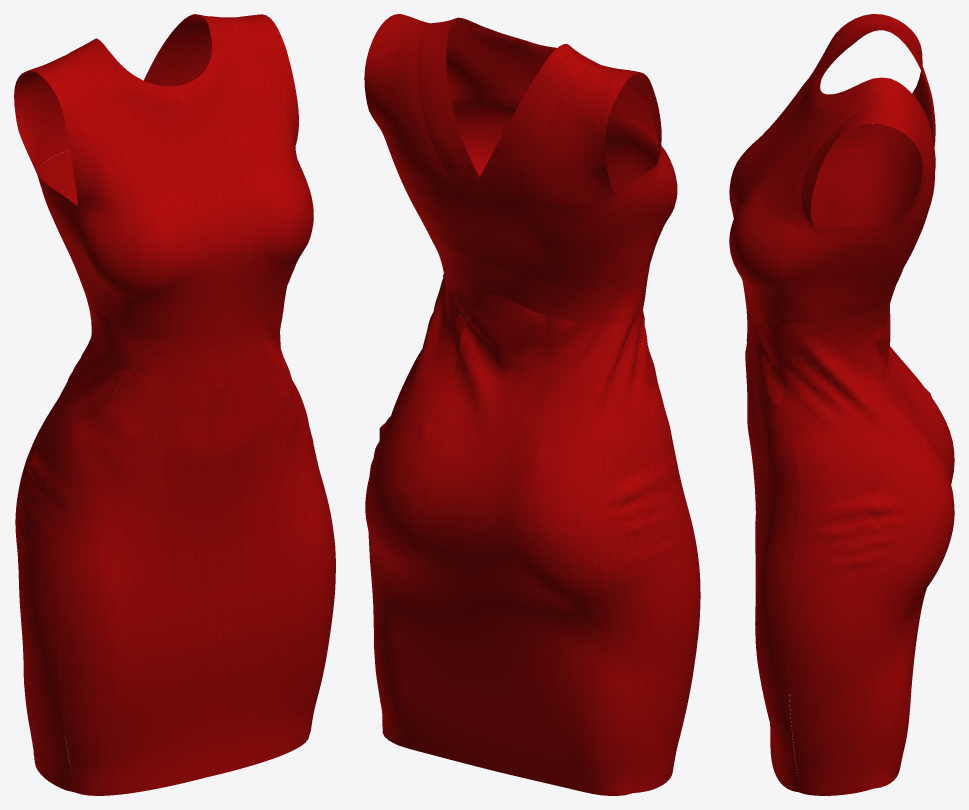
Rendered from futuristic_business_dress.glb.
3 renders of one model, left to right at view 1: azimuth 30°, elevation 25°; view 2: azimuth 150°, elevation 25°; view 3: azimuth 270°, elevation 25°, orthographic. The views are drawn at different scales.
Visible parts, largest first — view 1: Object_2; view 2: Object_2; view 3: Object_2.
Part boxes in pixels (bbox=[...]): Object_2: bbox=[14, 14, 335, 795]; Object_2: bbox=[364, 14, 700, 795]; Object_2: bbox=[729, 14, 954, 795].
Size of the model in its own units: 0.3989 by 0.9184 by 0.2727.
Materials: 1 (1 with a texture image).
